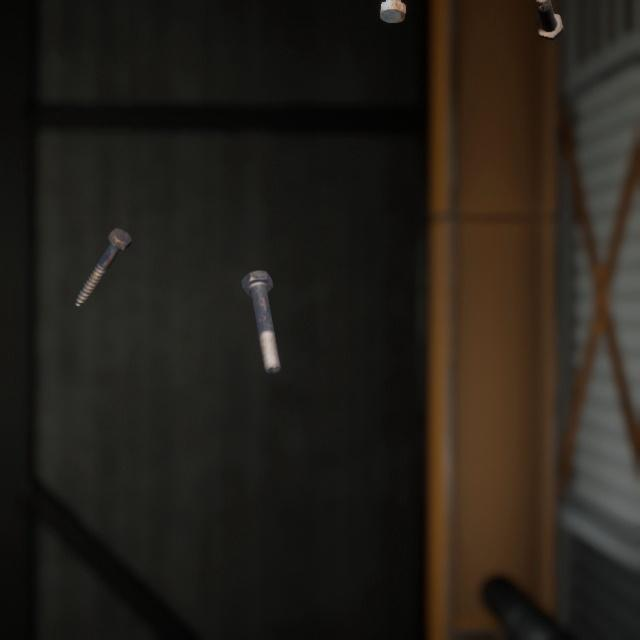bolt: (70, 206, 136, 294), (236, 248, 285, 360), (531, 0, 568, 37)
